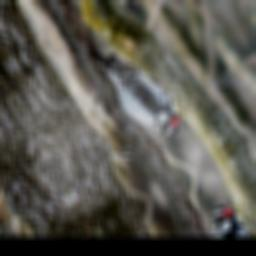Woodpecker: (80, 21, 190, 155)
